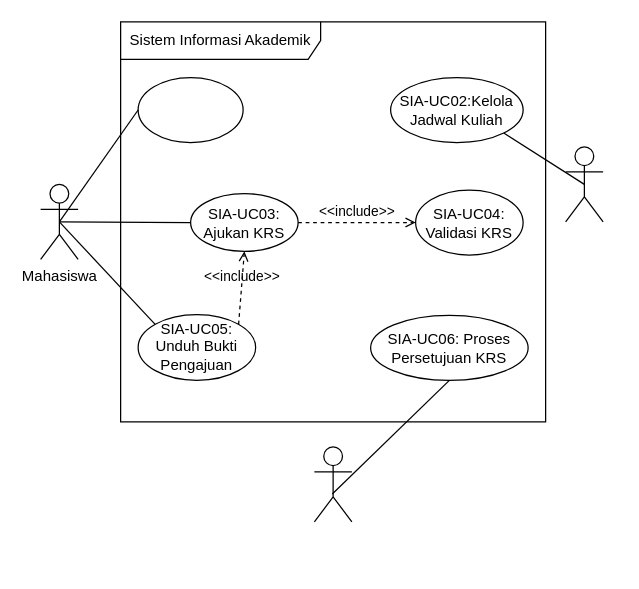
Some shapes in this 639 by 589 pixel diagram are drawn without their labels. Each missing label, with the centre of its shape:
"Admin Akademik" goes at [583,184].
"Dosen Wali" goes at [332,484].
"SIA-UC01: Lihat Jadwal Kuliah" goes at [190,109].
